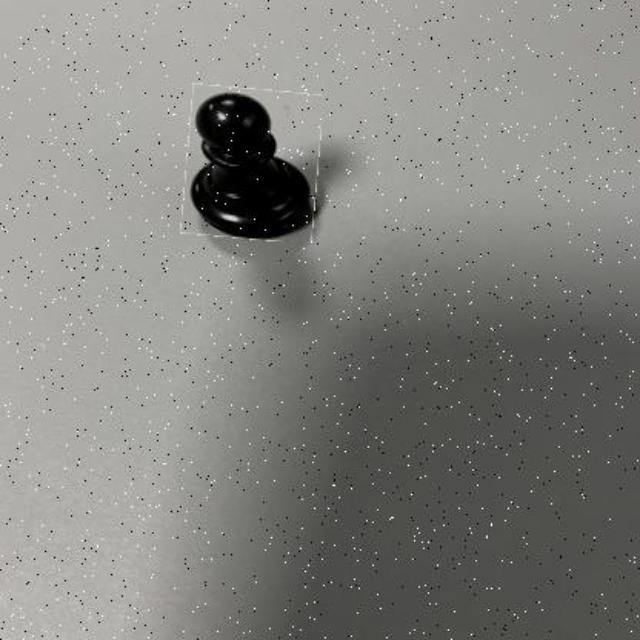black-pawn: (184, 86, 320, 241)
